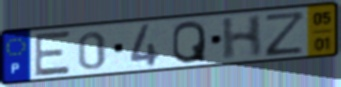0: (75, 30, 110, 71)
4: (128, 22, 162, 69)
E: (33, 29, 73, 79)
H: (220, 13, 265, 62)
Q: (171, 19, 209, 65)
Z: (263, 9, 308, 59)
